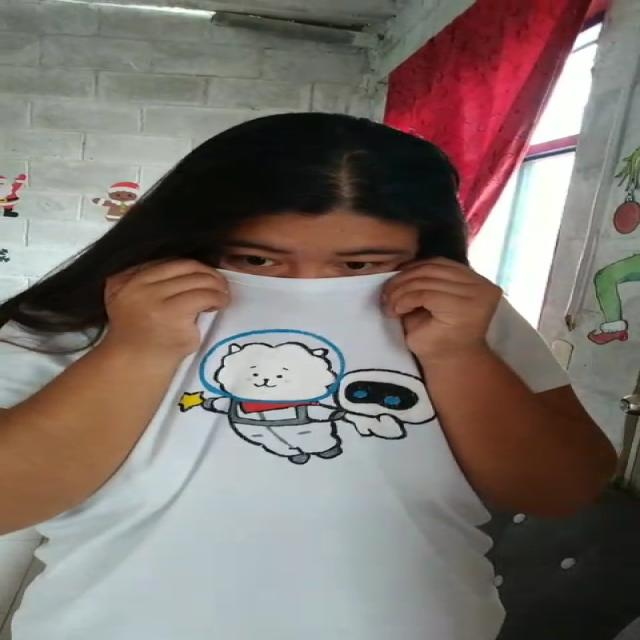8_ropa_rostro: (109, 259, 487, 424)
